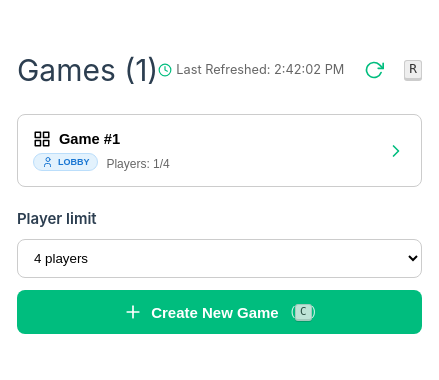
Test case: DashboardView.vue accessibility and UX › displays error message in an alert role on failure
Click the button with class "game-item". click: {"x": 89, "y": 139}
box: left=17, top=114, right=422, bottom=187
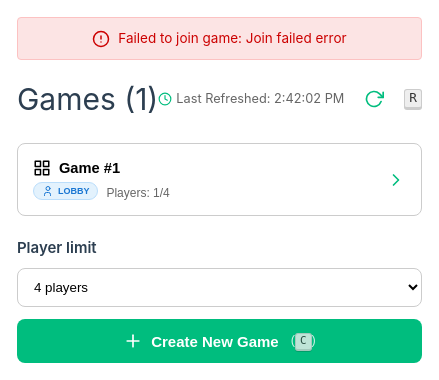
Expected: the message "Failed to join game: Join failed error" is shown, left=17, top=17, right=422, bottom=60
Expected: the message with class "error-message" shows "Join failed error", left=118, top=30, right=347, bottom=46
